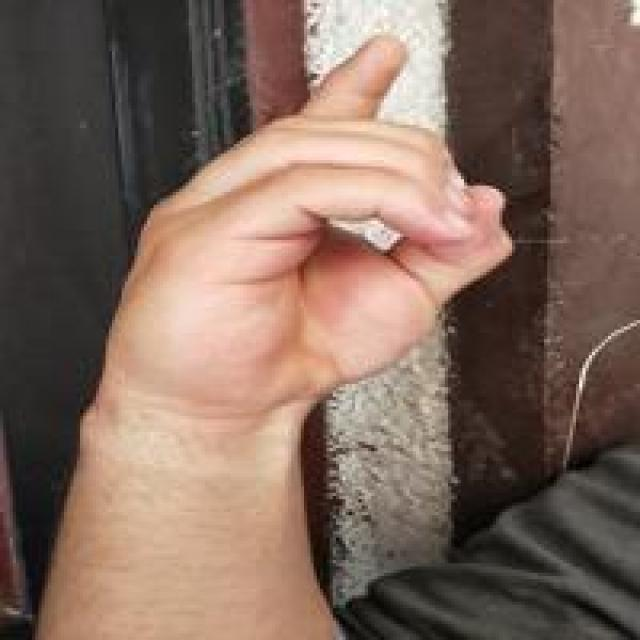D: (109, 29, 528, 413)
